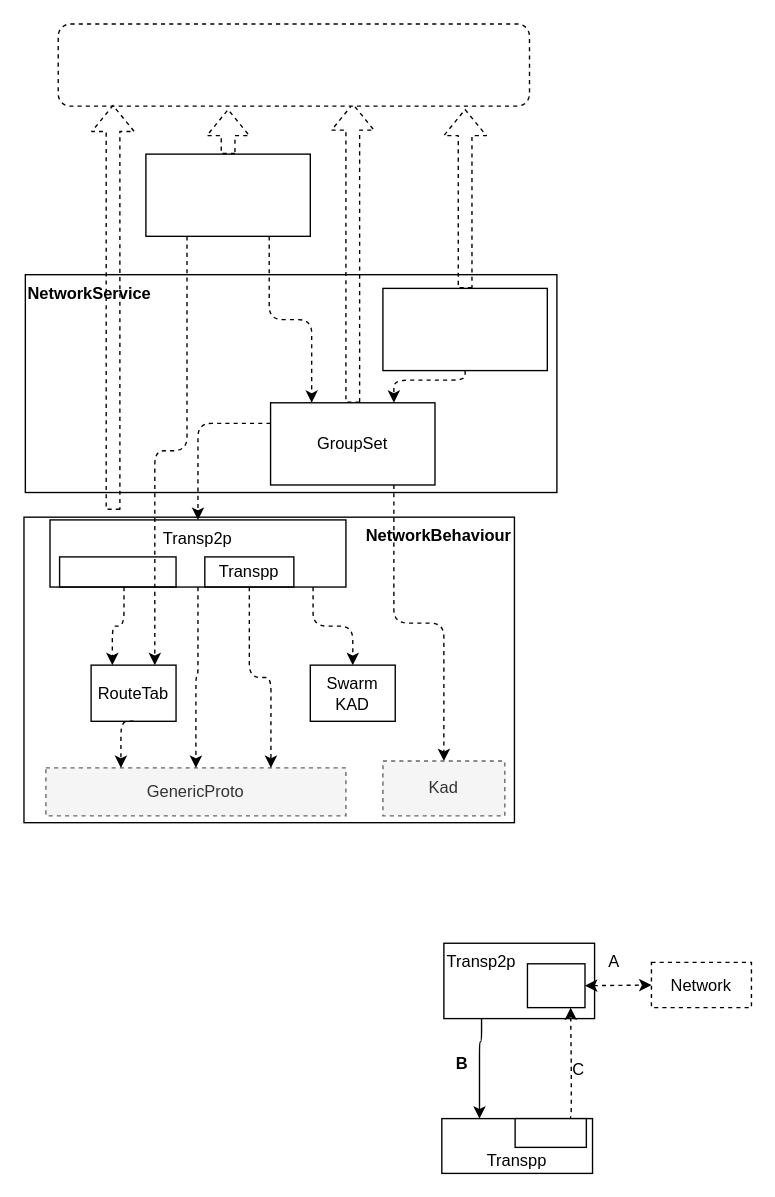
The diagram is 775 pixels wide and 1197 high, and some of its shapes have lost their labels. The centre of each missing label's shape, as x and y in pixels:
"API" belongs at point 293,64.
"DelayRelay" belongs at point 464,329.
"MQ" belongs at point 550,1132.
"poll" belongs at point 555,985.
"RouteManage" belongs at point 117,571.
"SeedGroup" belongs at point 227,194.
